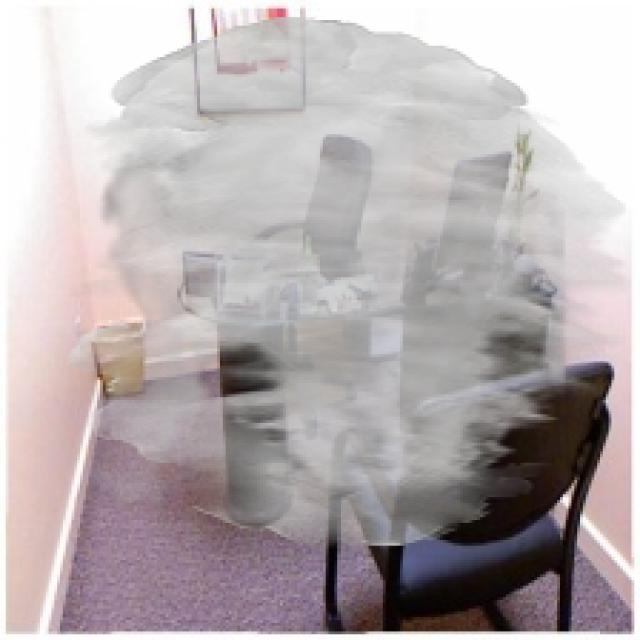smoke: (66, 17, 631, 549)
